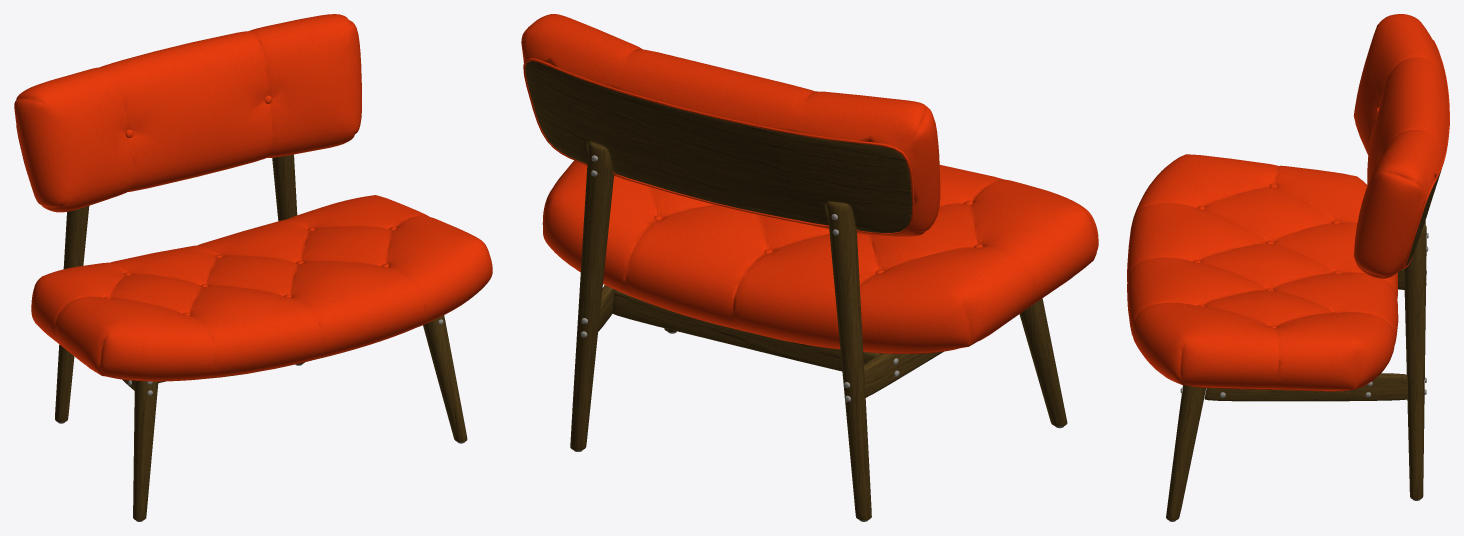
Rendered from sheen_chair.glb.
3 renders of one model, left to right at view 1: azimuth 30°, elevation 25°; view 2: azimuth 150°, elevation 25°; view 3: azimuth 270°, elevation 25°, orthographic. The views are drawn at different scales.
Parts seen in each view (by area): view 1: SheenChair_fabric, SheenChair_wood; view 2: SheenChair_fabric, SheenChair_wood; view 3: SheenChair_fabric, SheenChair_wood.
Boxes of the visible parts, x1,y1,x2,y2 form: SheenChair_fabric: (14, 14, 492, 381); SheenChair_wood: (55, 154, 467, 520); SheenChair_fabric: (521, 14, 1098, 353); SheenChair_wood: (525, 61, 1067, 520); SheenChair_fabric: (1127, 14, 1449, 391); SheenChair_wood: (1166, 170, 1441, 520).
Size of the model in its own units: 0.8266 by 0.6861 by 0.57.
4 materials, 3 textured.
